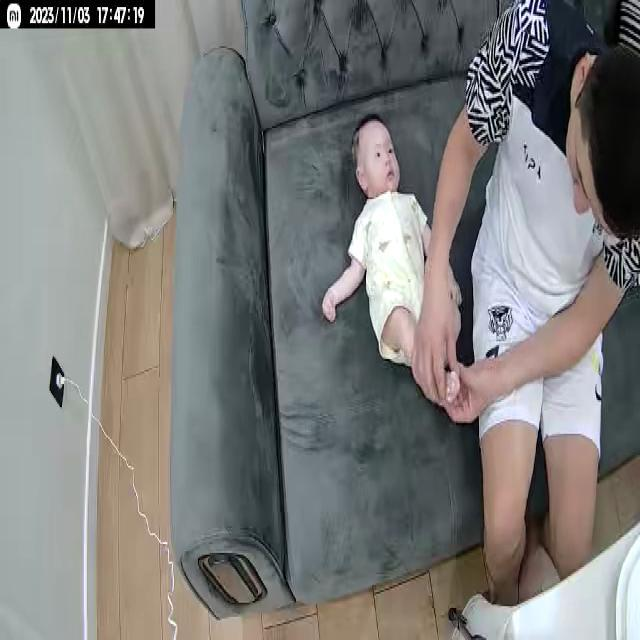baby: (321, 113, 464, 402)
